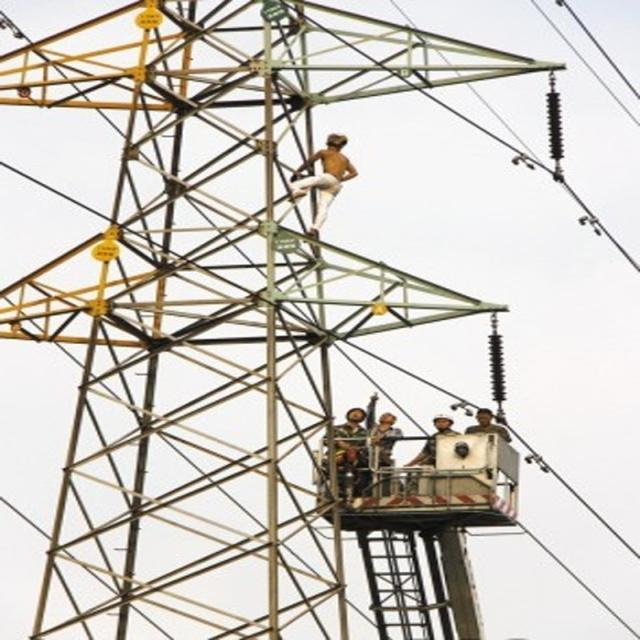non-critical vegetation: (9, 4, 568, 634)
